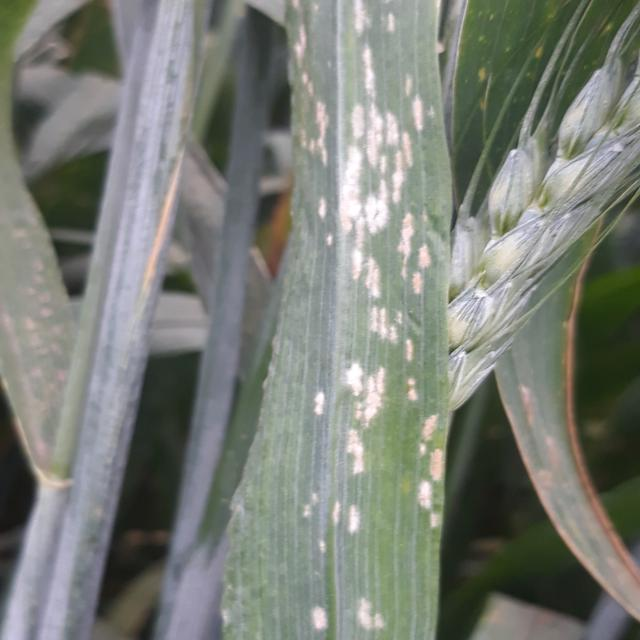powder_mildew: (219, 0, 486, 640), (419, 0, 640, 409), (490, 404, 640, 612), (126, 154, 207, 350)
